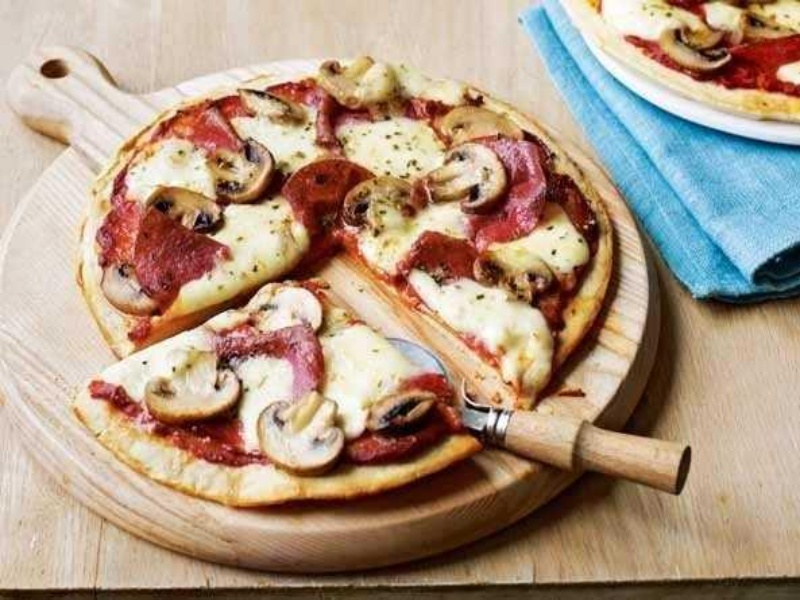champignon: (250, 387, 352, 476), (141, 347, 243, 428), (422, 138, 514, 211), (340, 173, 426, 240), (474, 239, 558, 307), (655, 17, 750, 77), (207, 138, 277, 208), (145, 185, 226, 234)
